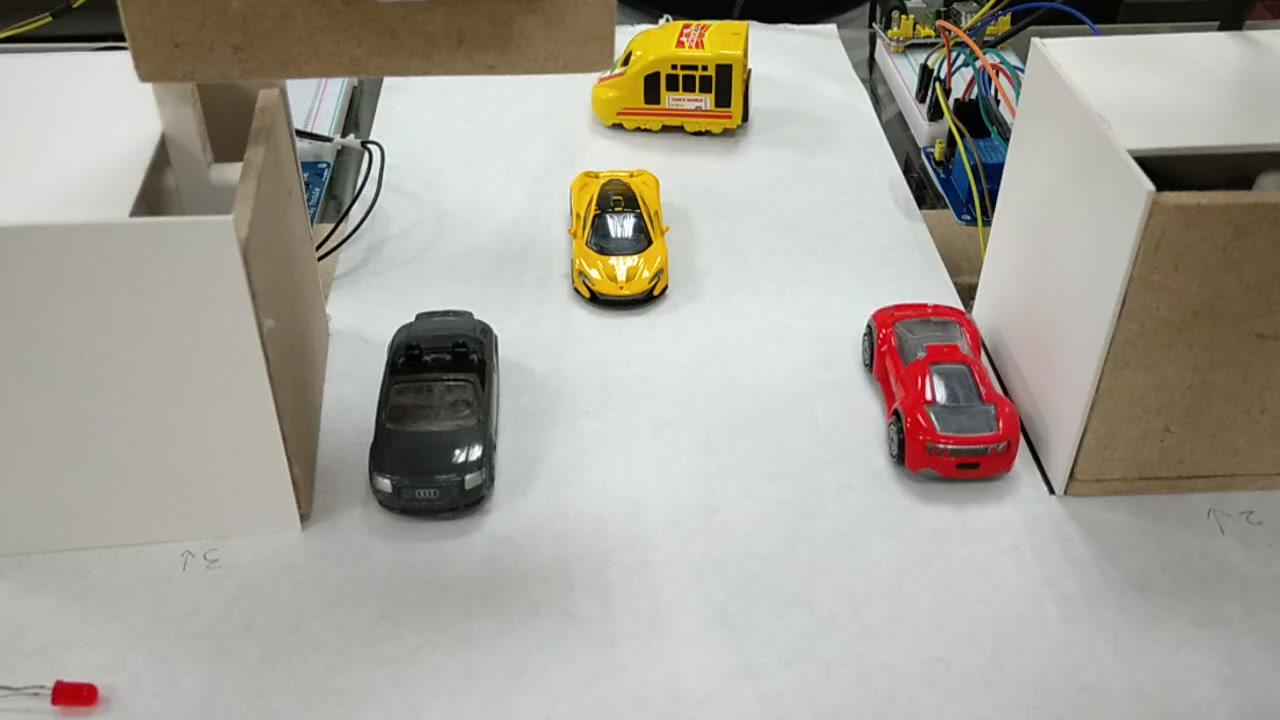car: (856, 307, 1022, 485), (368, 307, 496, 511), (572, 169, 669, 303)
